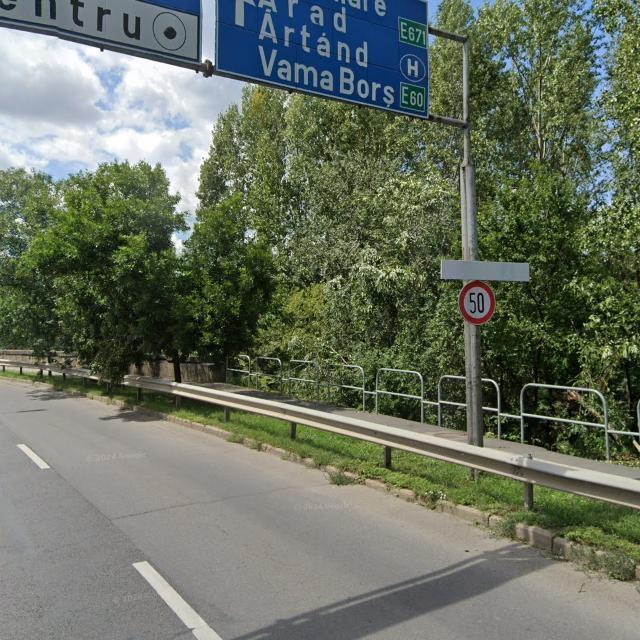forb_speed_over_50: (459, 281, 496, 325)
